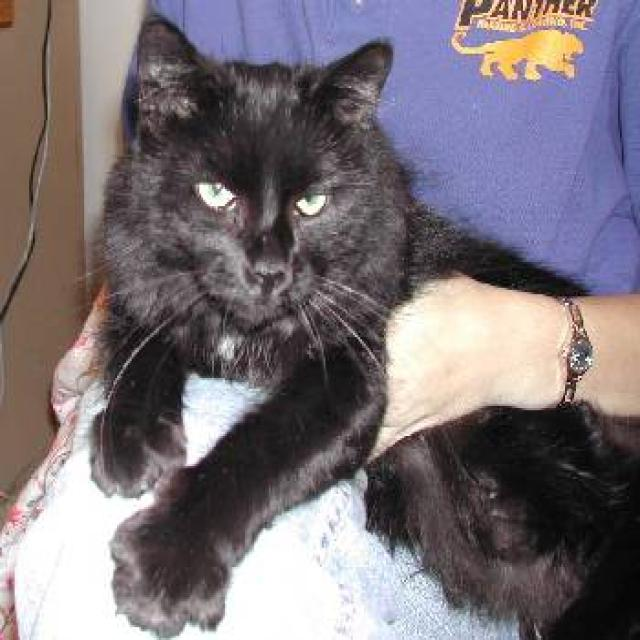cat: (84, 11, 638, 638)
